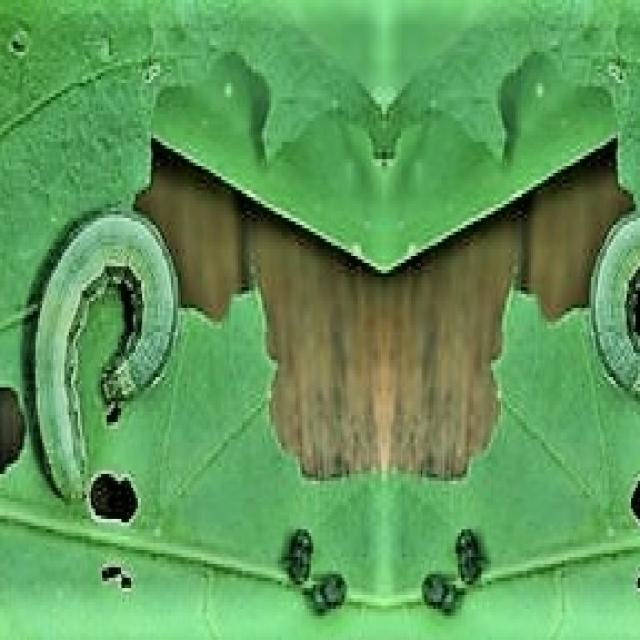Armyworm: (20, 181, 197, 509), (559, 195, 640, 406)
Armyworm_damage: (84, 436, 150, 548)
